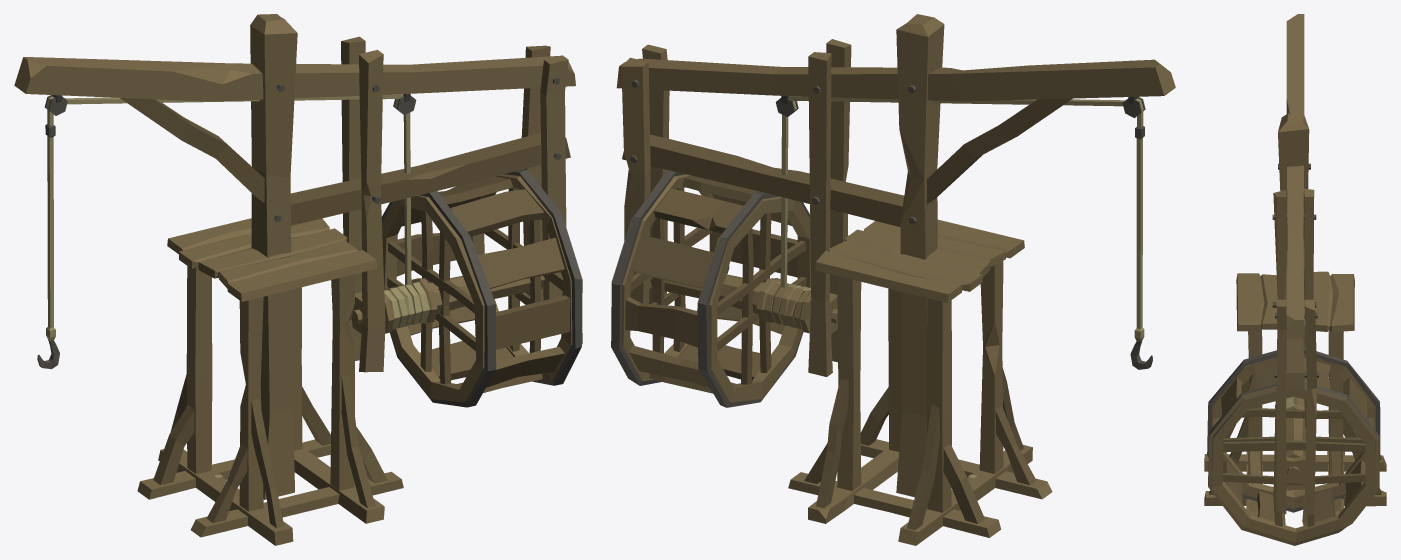
File: Crane_2.fbx
The picture shows the model from 3 angles, left to right: view 1: azimuth 30°, elevation 25°; view 2: azimuth 150°, elevation 25°; view 3: azimuth 270°, elevation 25°; orthographic projection. The views are drawn at different scales.
Parts seen in each view (by area): view 1: Crane_2; view 2: Crane_2; view 3: Crane_2.
Part boxes in pixels (x1,y1,x2,y2): Crane_2: (14, 14, 582, 545); Crane_2: (611, 14, 1175, 545); Crane_2: (1204, 14, 1386, 545).
Bounding box in the file's own units: 682 × 578 × 252.
